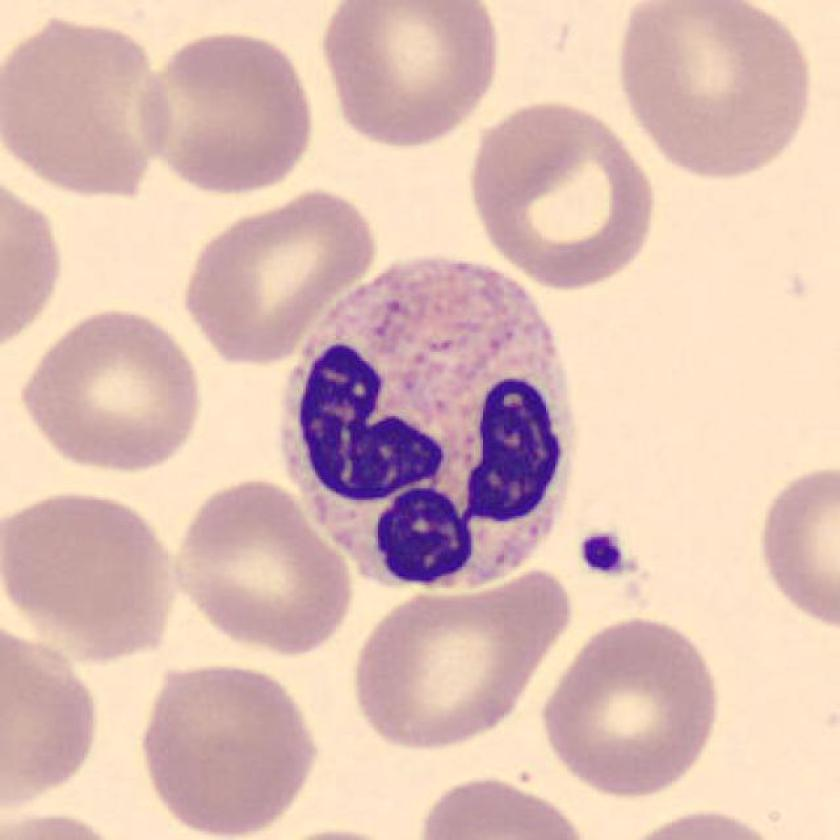neutrophil: (281, 258, 571, 592)
